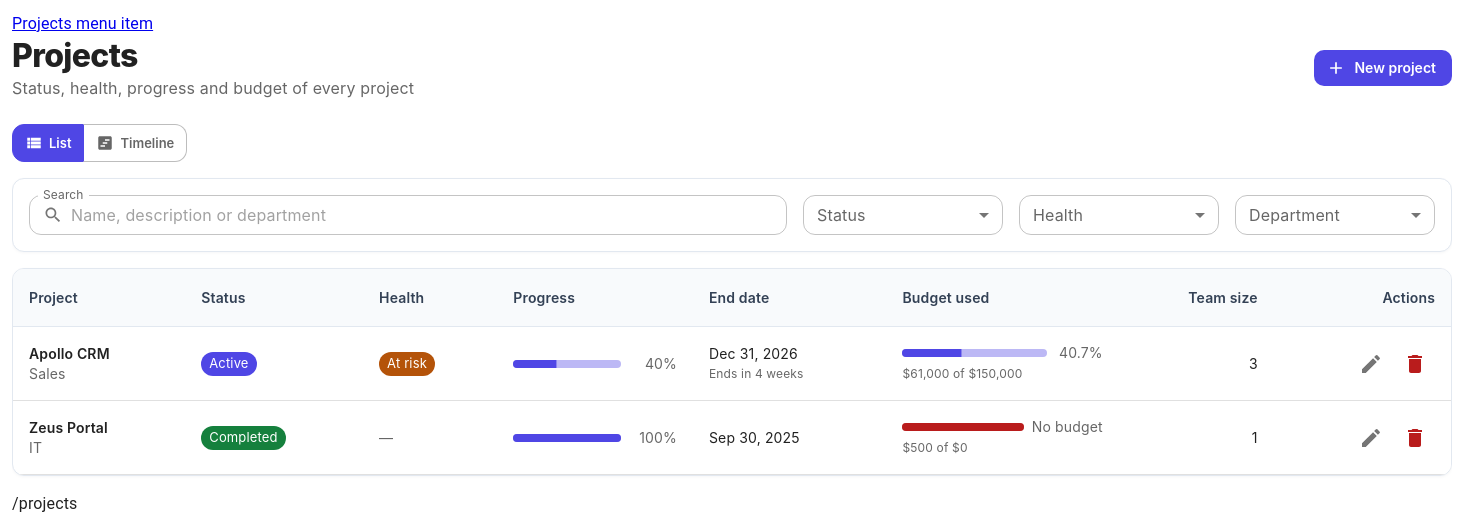
Test: ProjectsPage › opens the project page when a row is clicked
Click the text "Zeus Portal" at (68, 427), box [29,419,108,436]
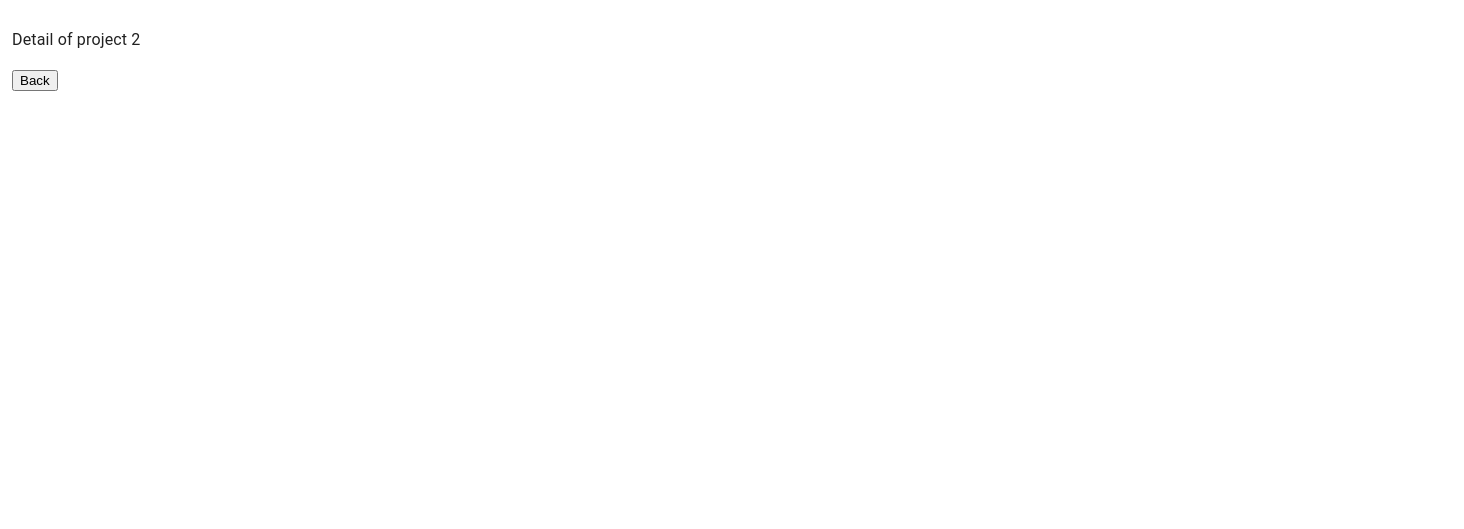
Result: the text "Detail of project 2" is shown at [12,30,140,49]
